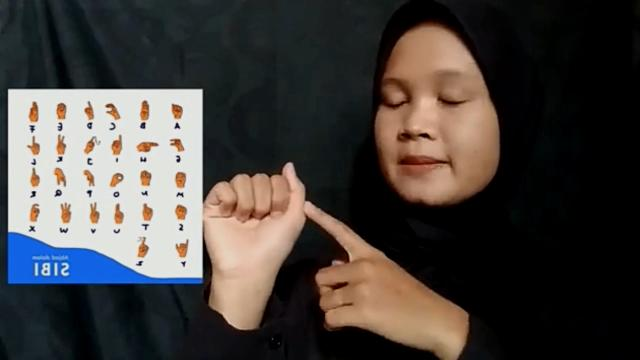A: (200, 155, 306, 293)
